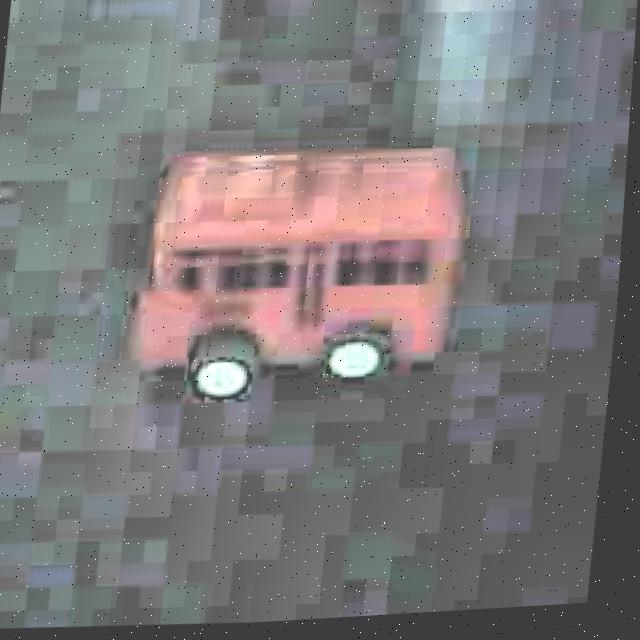bus: (111, 119, 491, 427)
